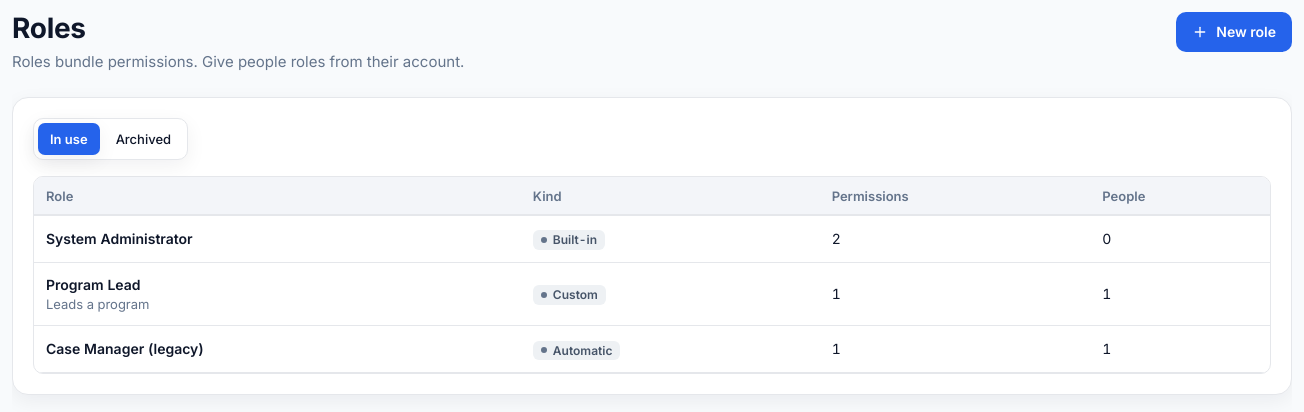
Test: Roles › lists roles in use, archived on request
Expected: the link "Program Lead" is shown, [46,276,140,293]
Click the button "Archived".
click(143, 139)  # box [104,123,183,155]
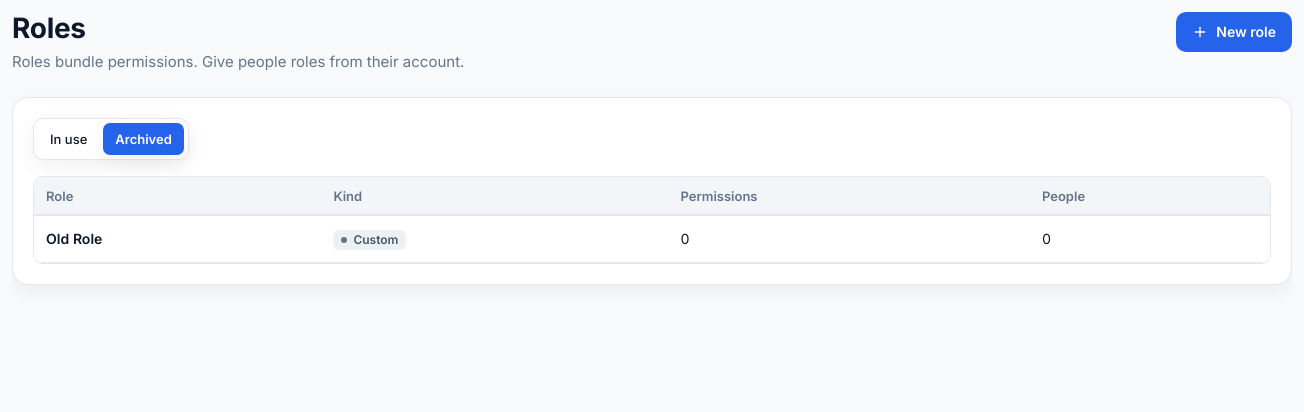
Expected: the link "Old Role" is shown, [46,230,102,247]
